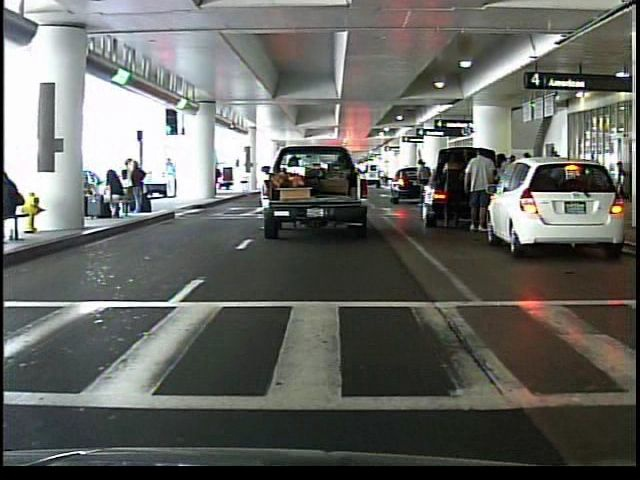person: (463, 145, 496, 237), (434, 143, 467, 231), (412, 155, 433, 208), (163, 156, 180, 199), (615, 158, 628, 184)
